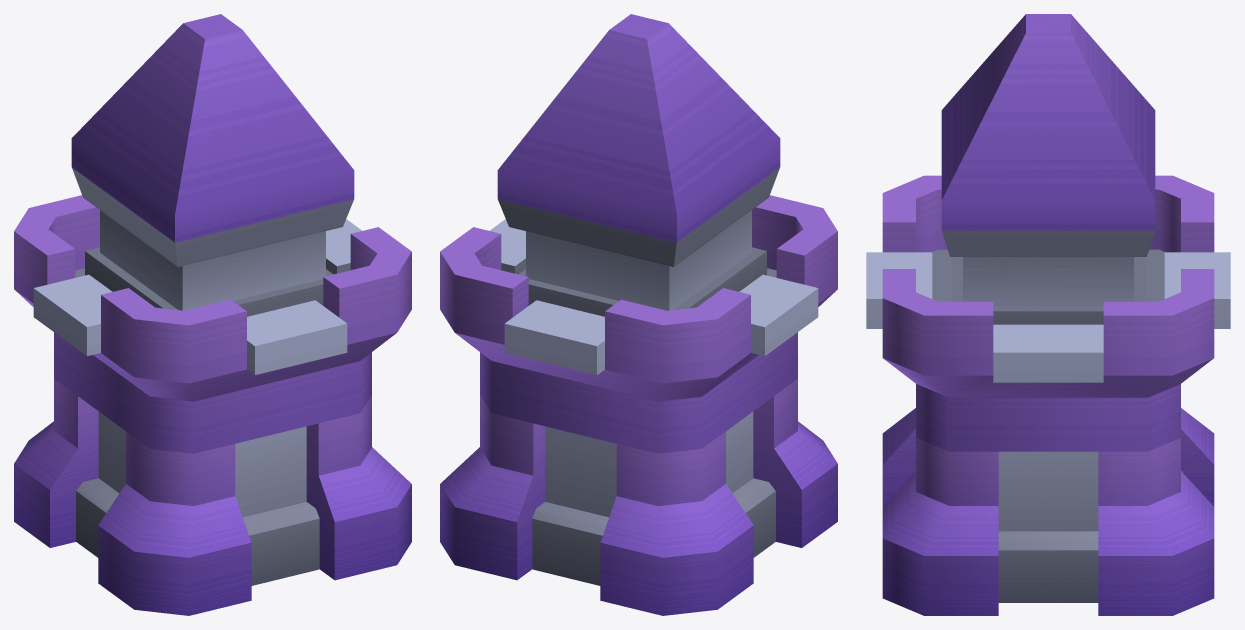
Rendered from tower-square-build-e.glb.
3 renders of one model, left to right at view 1: azimuth 30°, elevation 25°; view 2: azimuth 150°, elevation 25°; view 3: azimuth 270°, elevation 25°, orthographic. The views are drawn at different scales.
Visible parts, largest first — view 1: tower-square-build-e; view 2: tower-square-build-e; view 3: tower-square-build-e.
Boxes of the visible parts, bbox=[...] form: tower-square-build-e: bbox=[14, 14, 411, 615]; tower-square-build-e: bbox=[440, 14, 837, 615]; tower-square-build-e: bbox=[866, 14, 1230, 615].
Size of the model in its own units: 1.1 by 1.74 by 1.1.
Materials: 1 (1 with a texture image).
